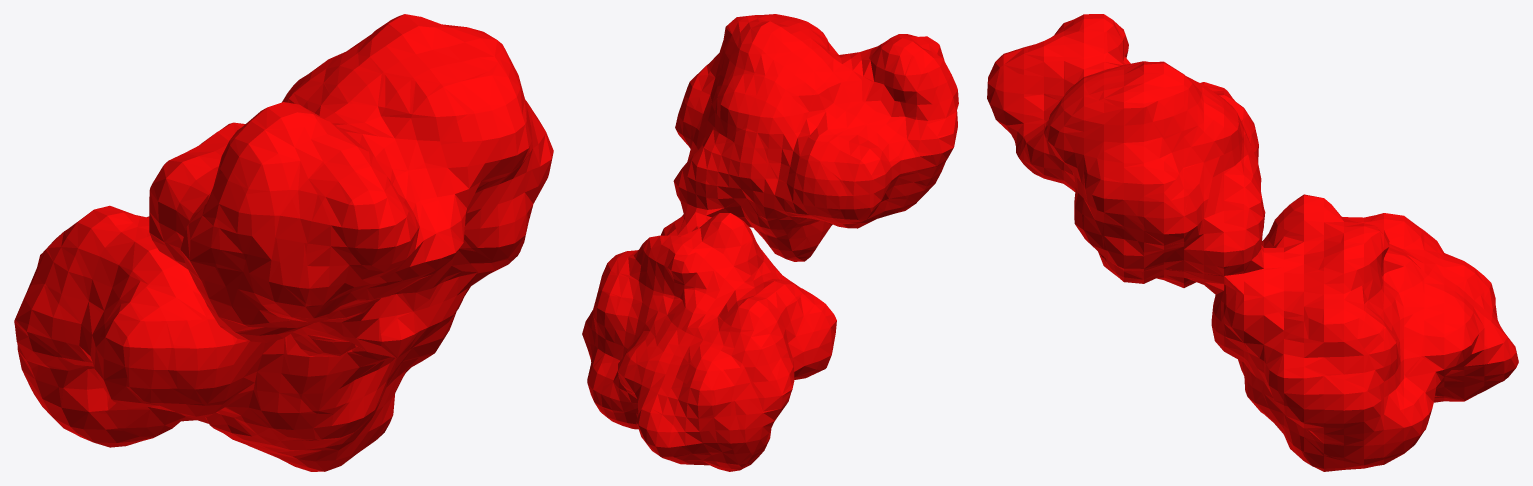
The model's file is ydcF_coarse.dae.
3 views of the same model, side by side, from view 1: azimuth 30°, elevation 25°; view 2: azimuth 150°, elevation 25°; view 3: azimuth 270°, elevation 25° (orthographic). The views are drawn at different scales.
Parts seen in each view (by area): view 1: ydcF; view 2: ydcF; view 3: ydcF.
Part boxes in pixels (bbox=[...]): ydcF: bbox=[14, 14, 553, 471]; ydcF: bbox=[582, 14, 958, 471]; ydcF: bbox=[987, 14, 1518, 471].
Size of the model in its own units: 61.31 by 79.95 by 97.49.
